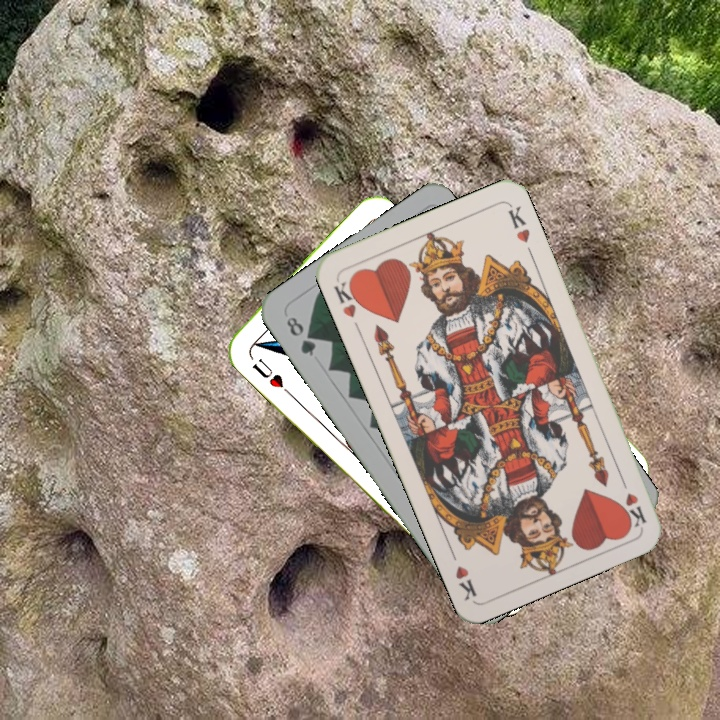G8: (282, 312, 319, 359)
HK: (615, 471, 649, 529), (329, 274, 365, 320)
HU: (248, 354, 286, 391)
